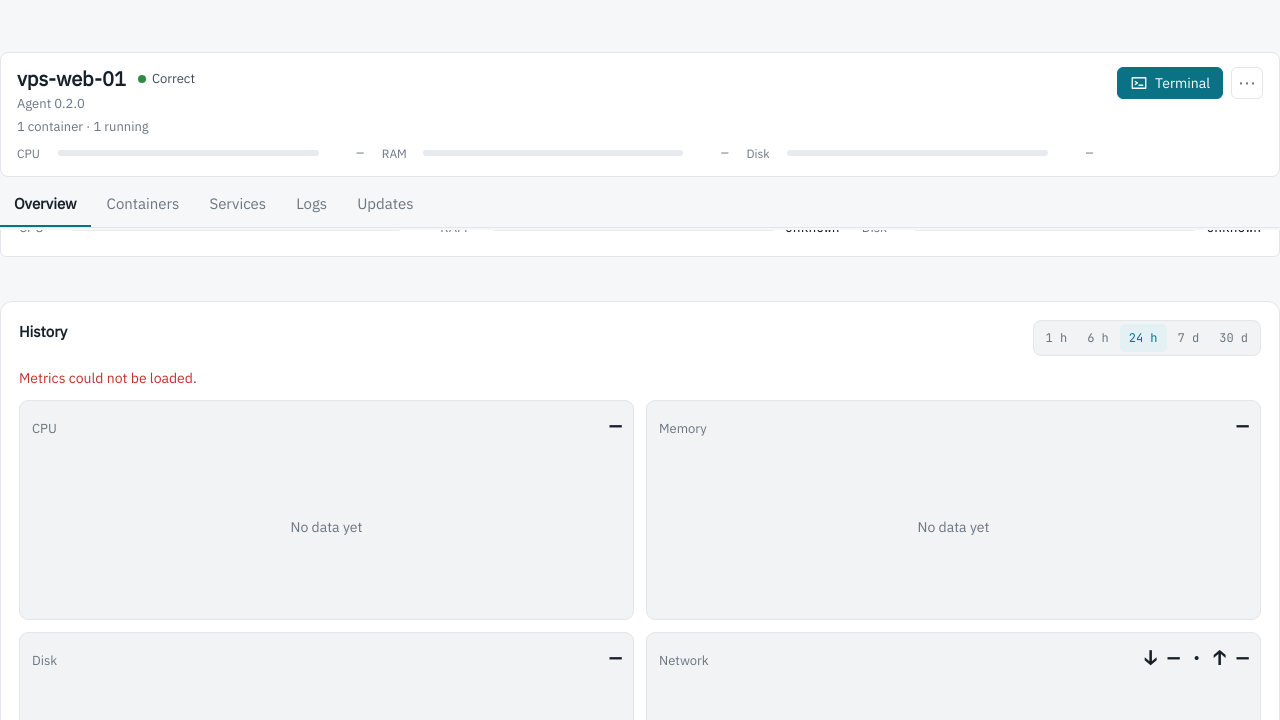
Test case: role-based panel controls › admin sees every tab and action
The width and height of the screenshot is (1280, 720).
Expected: the tab "Overview" is shown, [0,183,91,227]
Expected: the tab "Containers" is shown, [107,194,179,213]
Click the button named "Server actions" at (1247, 83), box [1231,67,1263,99]
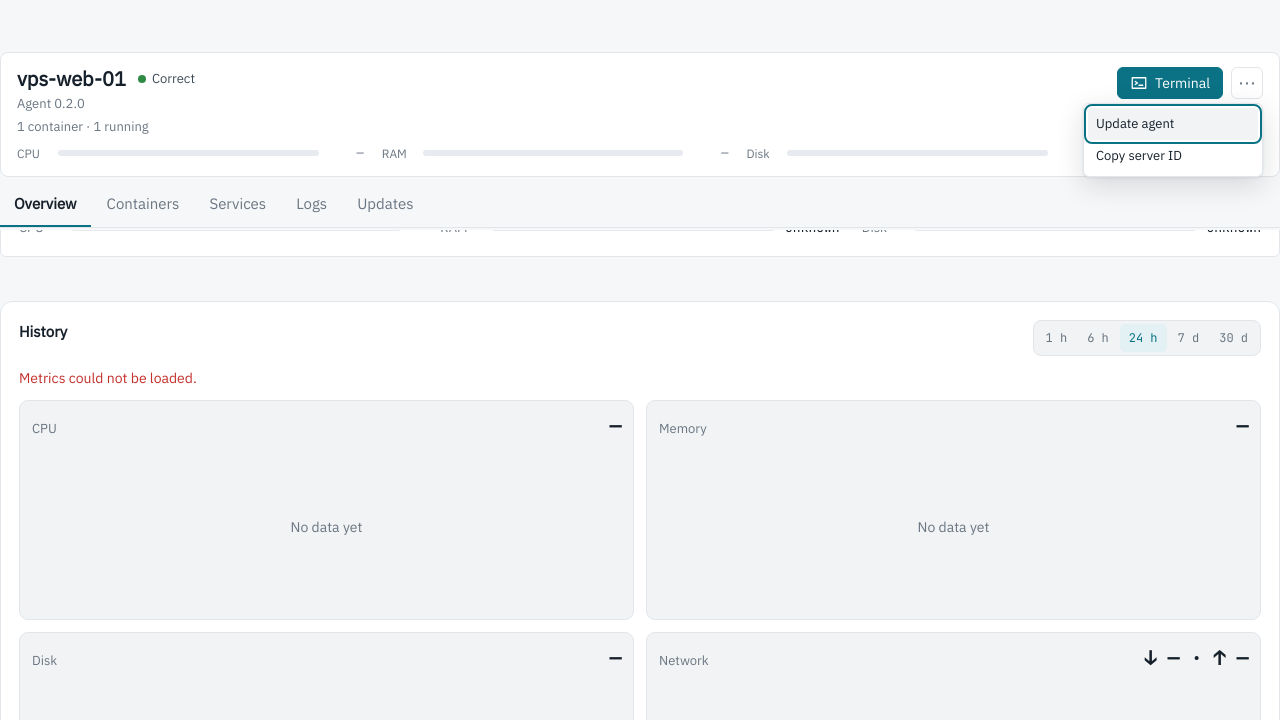
Expected: the menu item "Update agent" is shown, [1088,108,1258,140]
